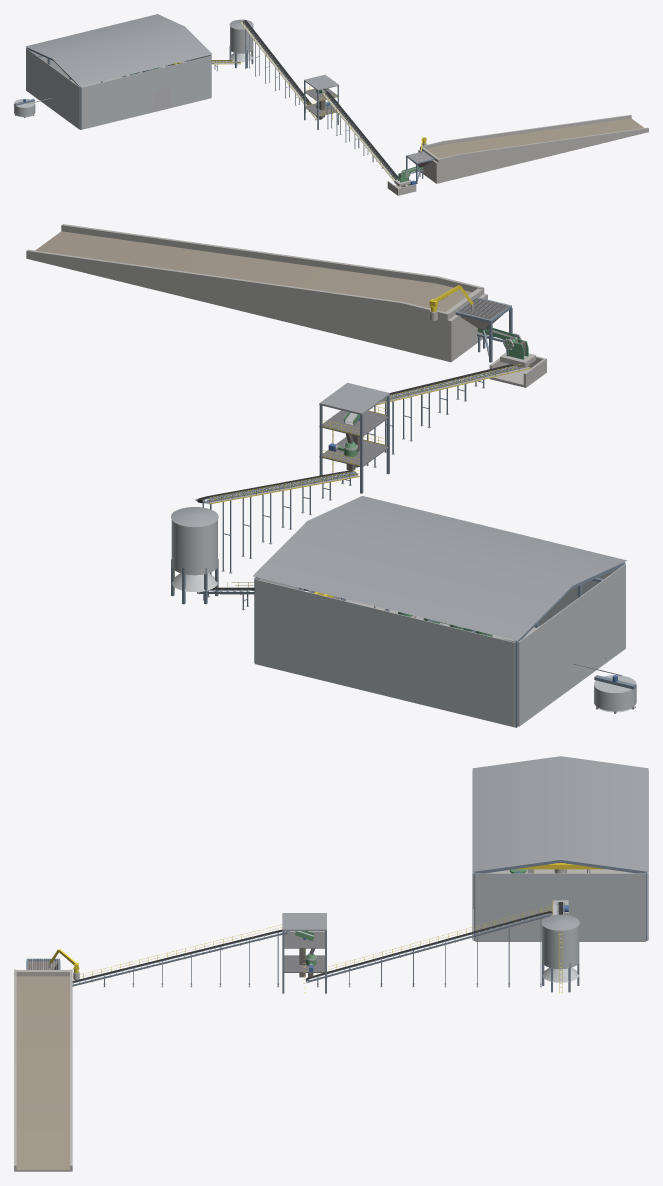
The model's file is SM_SlagCrushingFlotation.fbx.
3 renders of one model, top to bottom at view 1: azimuth 30°, elevation 25°; view 2: azimuth 150°, elevation 25°; view 3: azimuth 270°, elevation 25°, orthographic. The views are drawn at different scales.
Parts seen in each view (by area): view 1: CONC_Building_Roof, CONC_LoaderRamp, CONC_Building_Wall_S, CONC_Building_Wall_W, CONC_ScreenTower, CONC_FineOreBin, CONC_CV02_Structure, CONC_CV01_Structure, CONC_CV01_Belt, CONC_Building_Frame, CONC_Thickener_Tank, CONC_CV02_Belt (+1 smaller); view 2: CONC_Building_Roof, CONC_LoaderRamp, CONC_Building_Wall_N, CONC_Building_Wall_W, CONC_ScreenTower, CONC_FineOreBin, CONC_CV02_Structure, CONC_CV01_Structure, CONC_Thickener_Tank, CONC_ROMHopper, CONC_Building_Frame, CONC_CrusherPit; view 3: CONC_Building_Roof, CONC_LoaderRamp, CONC_Building_Wall_E, CONC_FineOreBin, CONC_ScreenTower, CONC_CV02_Structure, CONC_Building_Frame, CONC_CV01_Structure, CONC_CV02_Belt, CONC_CV01_Belt.
Part boxes in pixels (x1,y1,x2,y2): CONC_Building_Roof: (25, 14, 212, 86); CONC_LoaderRamp: (418, 115, 648, 183); CONC_Building_Wall_S: (81, 56, 211, 129); CONC_Building_Wall_W: (26, 48, 79, 129); CONC_ScreenTower: (304, 74, 339, 129); CONC_FineOreBin: (229, 19, 253, 68); CONC_CV02_Structure: (240, 20, 322, 120); CONC_CV01_Structure: (322, 91, 405, 187); CONC_CV01_Belt: (326, 91, 405, 186); CONC_Building_Frame: (26, 47, 211, 129); CONC_Thickener_Tank: (14, 97, 52, 118); CONC_CV02_Belt: (243, 20, 322, 119); CONC_Building_Roof: (253, 496, 627, 640); CONC_LoaderRamp: (26, 224, 487, 362); CONC_Building_Wall_N: (255, 579, 515, 727); CONC_Building_Wall_W: (518, 564, 625, 726); CONC_ScreenTower: (319, 382, 389, 493); CONC_FineOreBin: (171, 507, 218, 604); CONC_CV02_Structure: (195, 470, 359, 574); CONC_CV01_Structure: (366, 364, 530, 467); CONC_Thickener_Tank: (572, 663, 636, 713); CONC_ROMHopper: (455, 297, 512, 362); CONC_Building_Frame: (254, 562, 625, 727); CONC_CrusherPit: (489, 356, 546, 387); CONC_Building_Roof: (472, 756, 648, 871); CONC_LoaderRamp: (14, 969, 72, 1171); CONC_Building_Wall_E: (475, 873, 645, 941); CONC_FineOreBin: (541, 914, 579, 993); CONC_ScreenTower: (282, 913, 326, 993); CONC_CV02_Structure: (306, 905, 551, 987); CONC_Building_Frame: (473, 860, 647, 941); CONC_CV01_Structure: (72, 924, 288, 987); CONC_CV02_Belt: (306, 911, 552, 982); CONC_CV01_Belt: (72, 929, 287, 985).
Bounding box in the file's own units: 15952 × 1950 × 11905.
